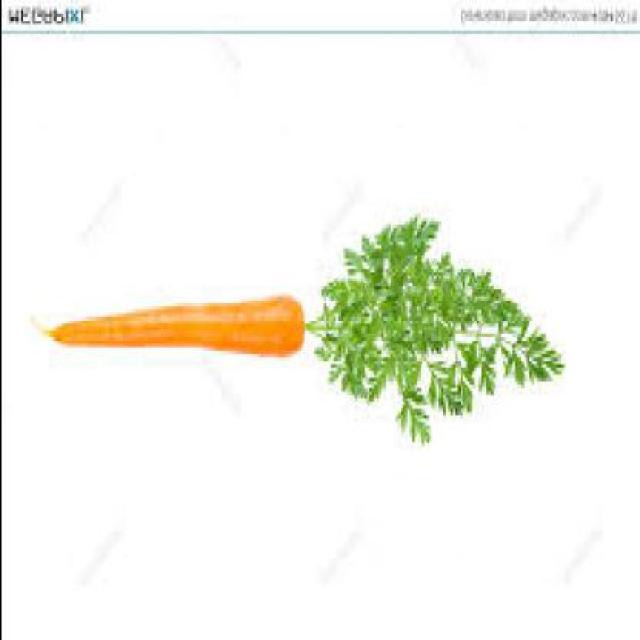BIODEGRADABLE: (306, 222, 566, 449), (46, 299, 306, 364)
